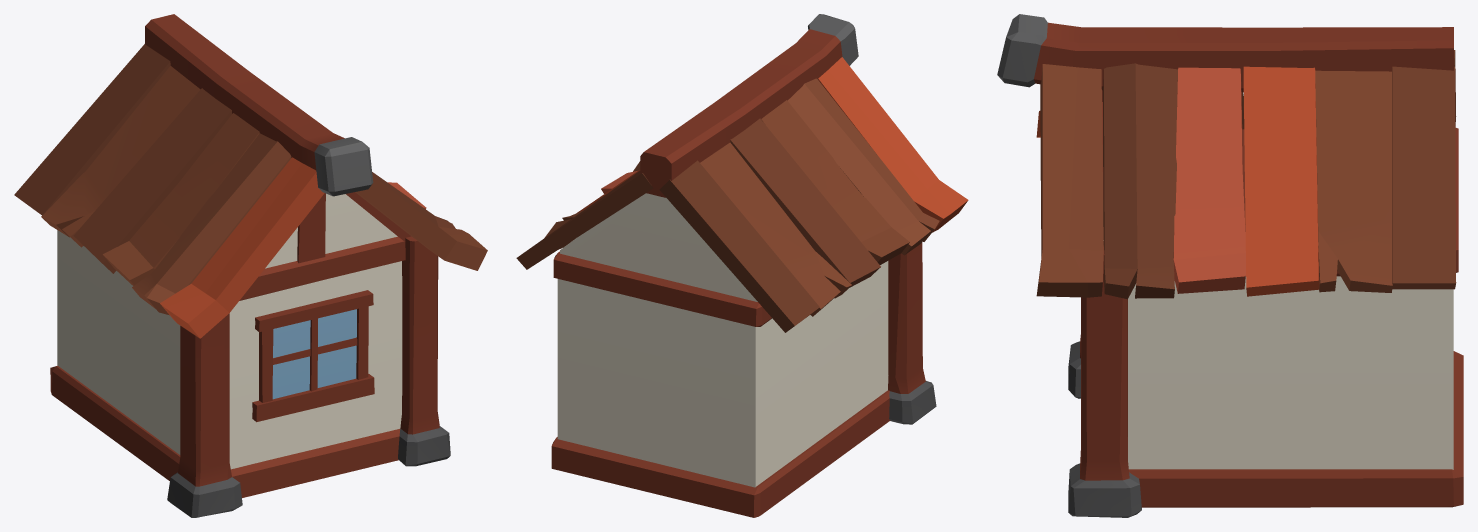
The model's file is House_1Floor_Side_C.fbx.
3 views of the same model, side by side, from view 1: azimuth 30°, elevation 25°; view 2: azimuth 150°, elevation 25°; view 3: azimuth 270°, elevation 25° (orthographic). The views are drawn at different scales.
Parts seen in each view (by area): view 1: House_1Floor_Side_C; view 2: House_1Floor_Side_C; view 3: House_1Floor_Side_C.
Boxes of the visible parts, box(x1,y1,x2,y2) form: House_1Floor_Side_C: box(14, 14, 487, 517); House_1Floor_Side_C: box(516, 14, 968, 517); House_1Floor_Side_C: box(997, 14, 1463, 517).
Bounding box in the file's own units: 254 × 288 × 287.
